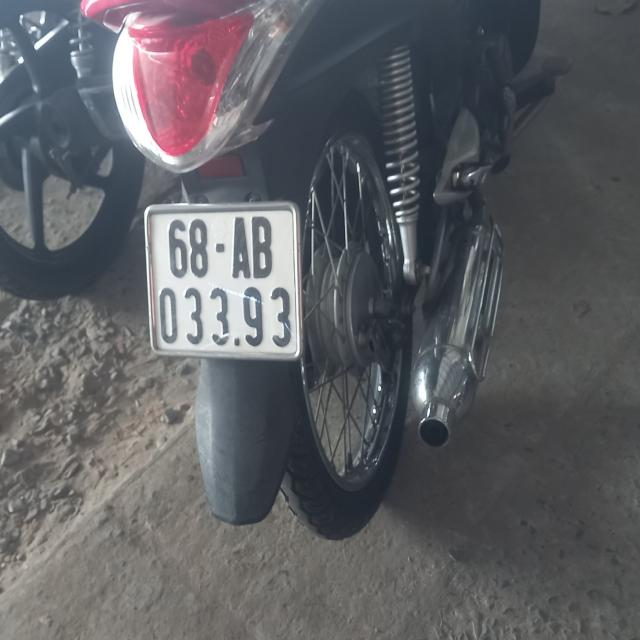0: (158, 286, 178, 343)
3: (271, 286, 290, 347), (210, 287, 228, 345), (185, 287, 203, 344)
6: (169, 220, 187, 278)
8: (189, 218, 208, 277)
9: (242, 285, 263, 345)
A: (233, 216, 251, 279)
B: (251, 216, 272, 278)
